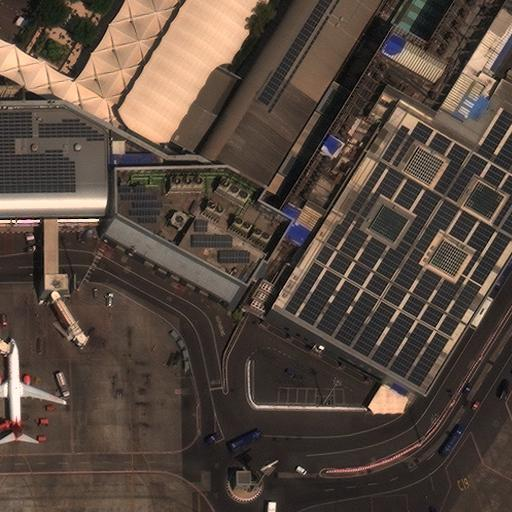Medium Civil Transport: (0, 339, 65, 441)
